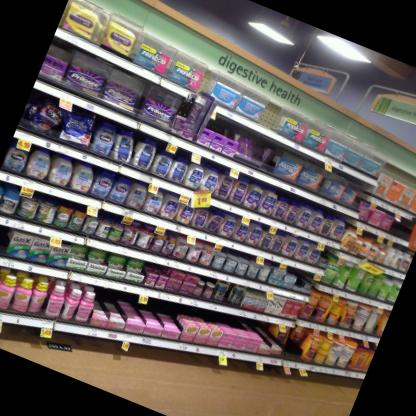empty_space: (258, 99, 287, 132), (0, 225, 16, 255), (388, 214, 405, 236), (399, 219, 415, 240)
